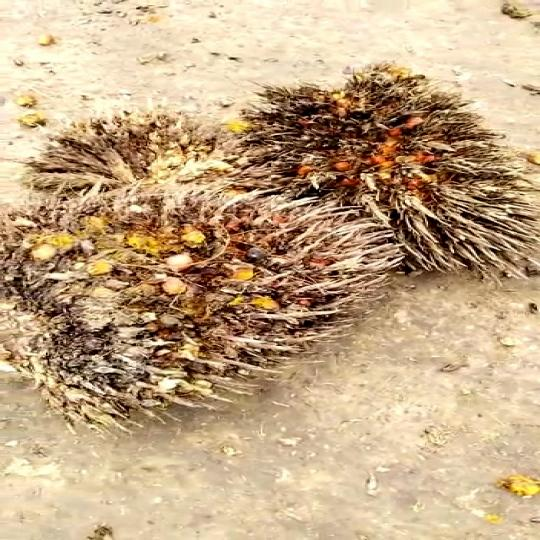terlalu masak: (0, 188, 378, 415), (255, 78, 540, 275), (0, 122, 265, 203)
